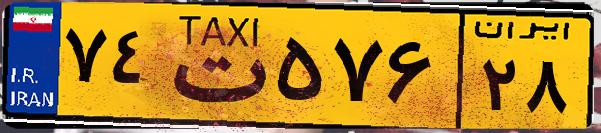2: (475, 38, 525, 113)
4: (110, 28, 158, 98)
5: (270, 28, 330, 110)
6: (385, 28, 445, 110)
7: (330, 28, 385, 110), (57, 26, 110, 100)
8: (525, 38, 570, 115)
ت: (158, 12, 270, 120)
